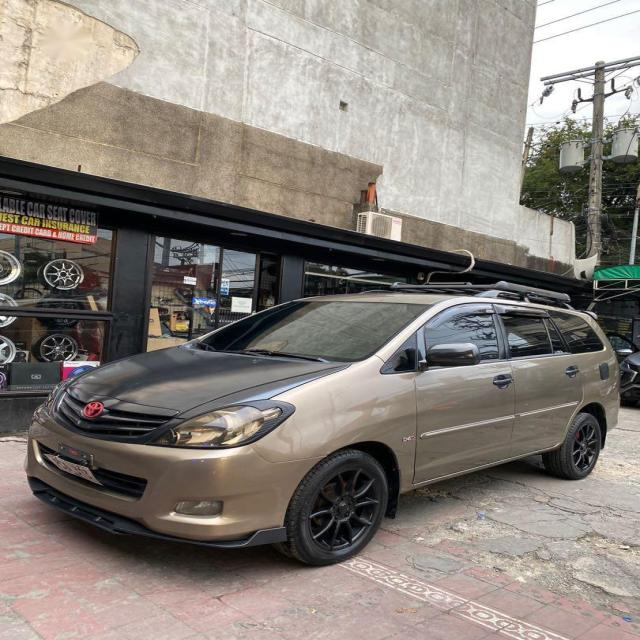light_vehicle: (24, 286, 623, 566)
